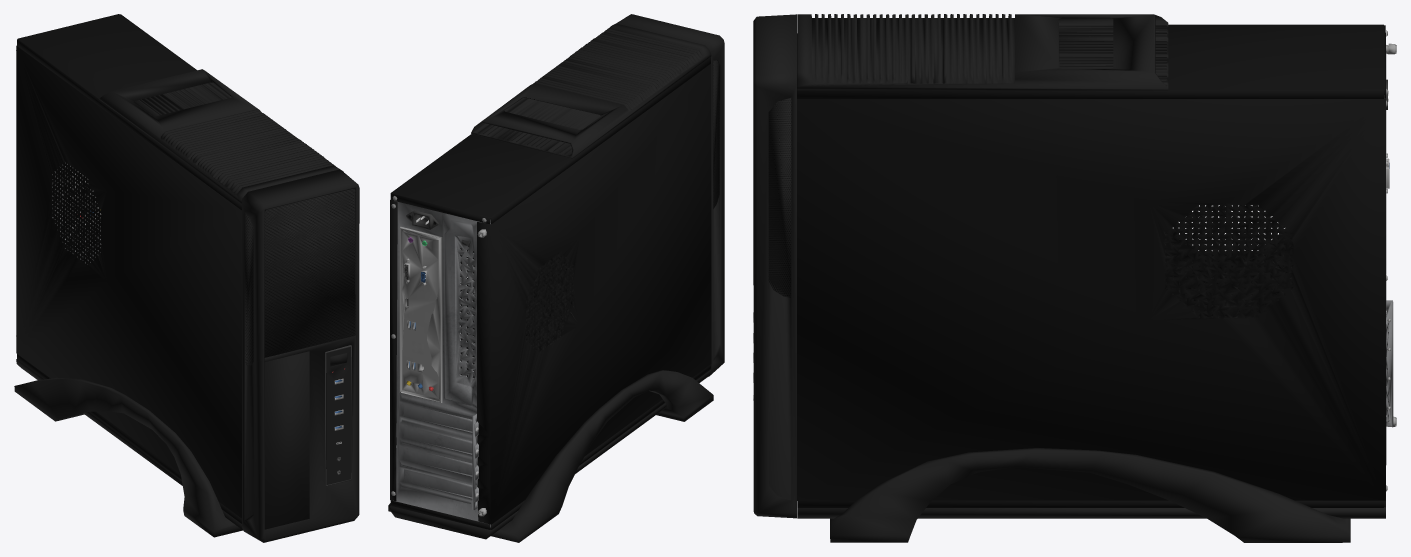
The model's file is computer_desktop_tower_a01.glb.
3 renders of one model, left to right at view 1: azimuth 30°, elevation 25°; view 2: azimuth 150°, elevation 25°; view 3: azimuth 270°, elevation 25°, orthographic. The views are drawn at different scales.
Parts seen in each view (by area): view 1: sm_computer_desktop_a01_mesh_00; view 2: sm_computer_desktop_a01_mesh_00; view 3: sm_computer_desktop_a01_mesh_00.
Boxes of the visible parts, bbox=[...] form: sm_computer_desktop_a01_mesh_00: bbox=[14, 14, 359, 542]; sm_computer_desktop_a01_mesh_00: bbox=[388, 14, 724, 542]; sm_computer_desktop_a01_mesh_00: bbox=[753, 14, 1396, 542].
Bounding box in the file's own units: 0.196 × 0.489 × 0.6238.
13 materials, 8 textured.
